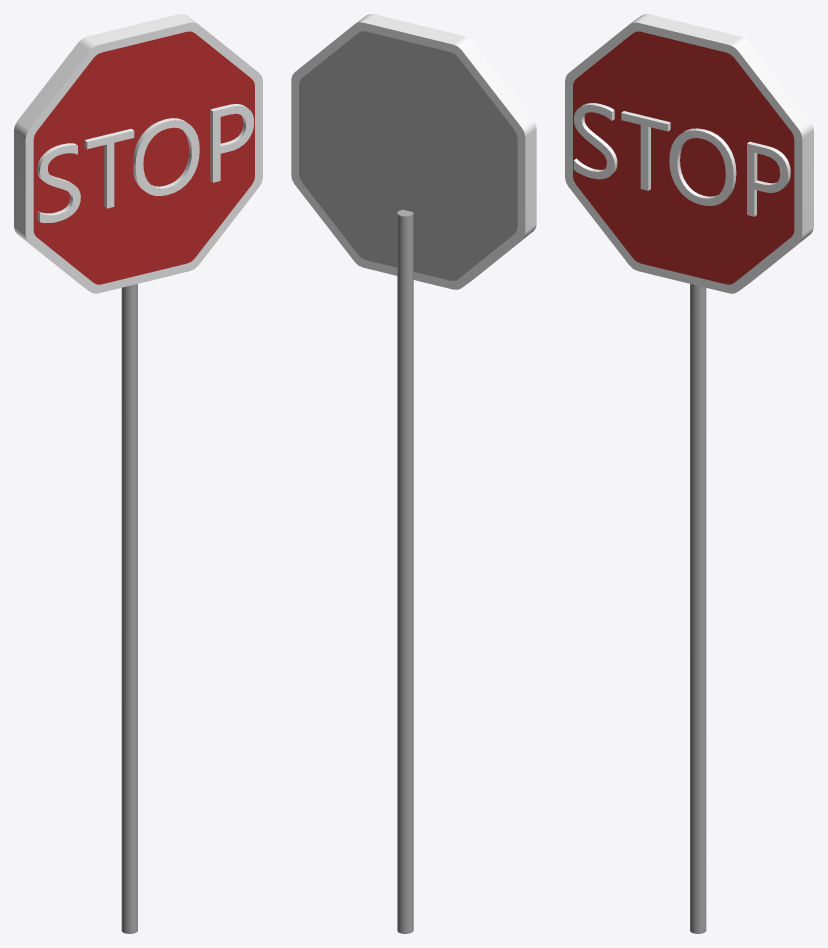
File: signboard_stop.glb
The picture shows the model from 3 angles, left to right: view 1: azimuth 30°, elevation 25°; view 2: azimuth 150°, elevation 25°; view 3: azimuth 330°, elevation 25°; orthographic projection.
Visible parts, largest first — view 1: Steel_support1.001; view 2: Steel_support1.001; view 3: Steel_support1.001.
Boxes of the visible parts, bbox=[...] form: Steel_support1.001: bbox=[14, 14, 262, 933]; Steel_support1.001: bbox=[291, 14, 536, 933]; Steel_support1.001: bbox=[565, 14, 813, 933].
Bounding box in the file's own units: 1.18 × 4.32 × 0.1847.
